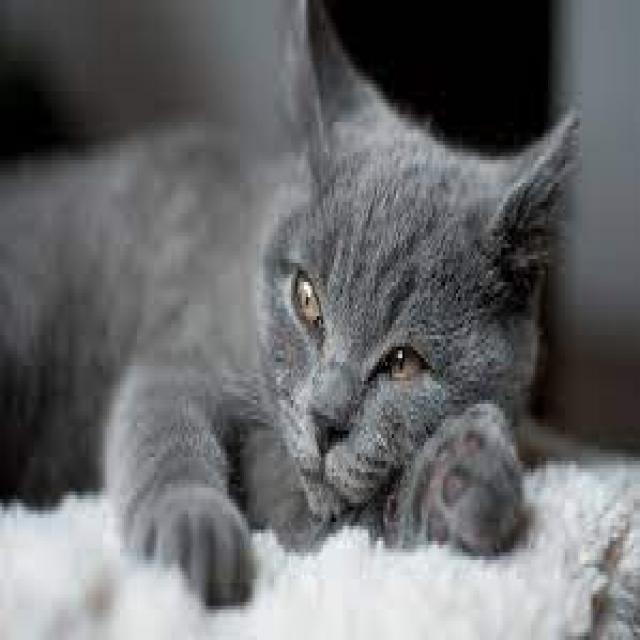Cat: (2, 2, 584, 610)
